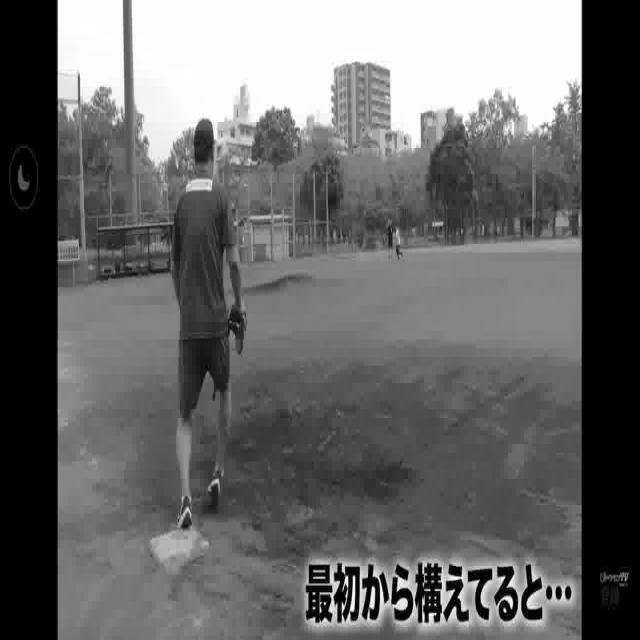base: (150, 524, 209, 576)
baseball_glove: (224, 298, 250, 356)
shoe: (208, 474, 226, 513), (176, 492, 193, 530)
